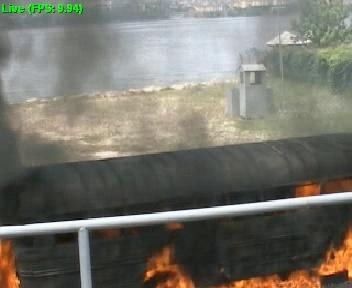fire: (265, 270, 352, 286), (0, 247, 20, 284)
